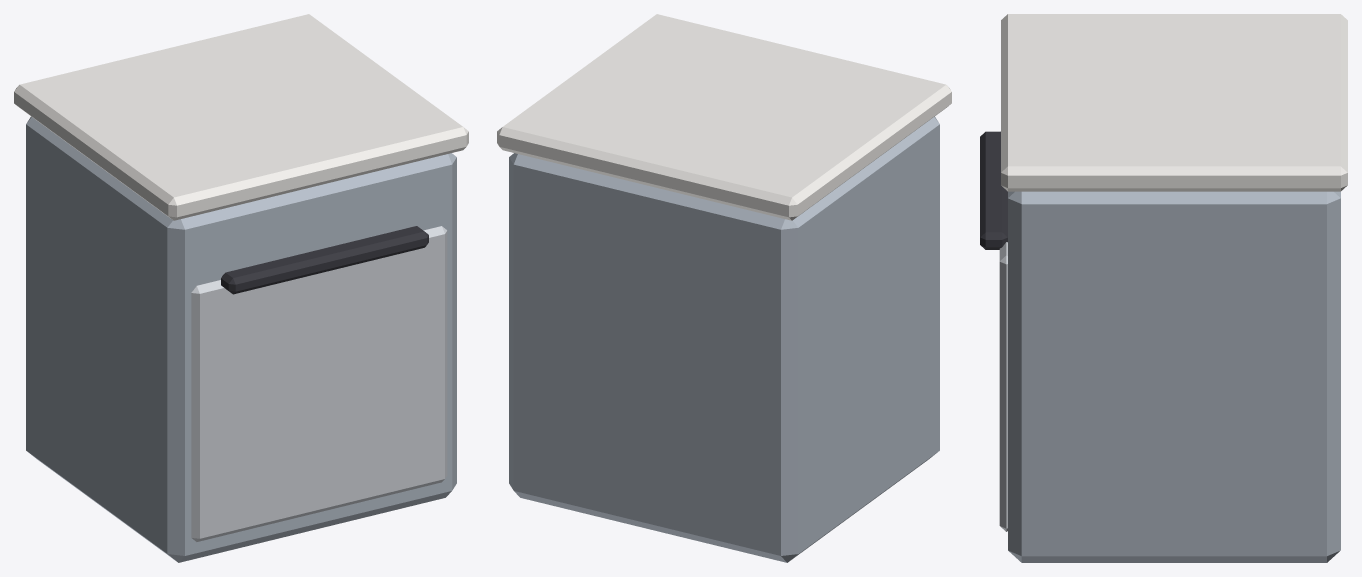
The model's file is Dishwasher.fbx.
3 renders of one model, left to right at view 1: azimuth 30°, elevation 25°; view 2: azimuth 150°, elevation 25°; view 3: azimuth 270°, elevation 25°, orthographic. The views are drawn at different scales.
Visible parts, largest first — view 1: Dishwasher; view 2: Dishwasher; view 3: Dishwasher.
Part boxes in pixels (<box>): Dishwasher: <box>14,14,468,562</box>; Dishwasher: <box>497,14,951,562</box>; Dishwasher: <box>980,14,1347,562</box>.
Bounding box in the file's own units: 2.7 × 3.2 × 2.65.
Materials: 1 (1 with a texture image).
